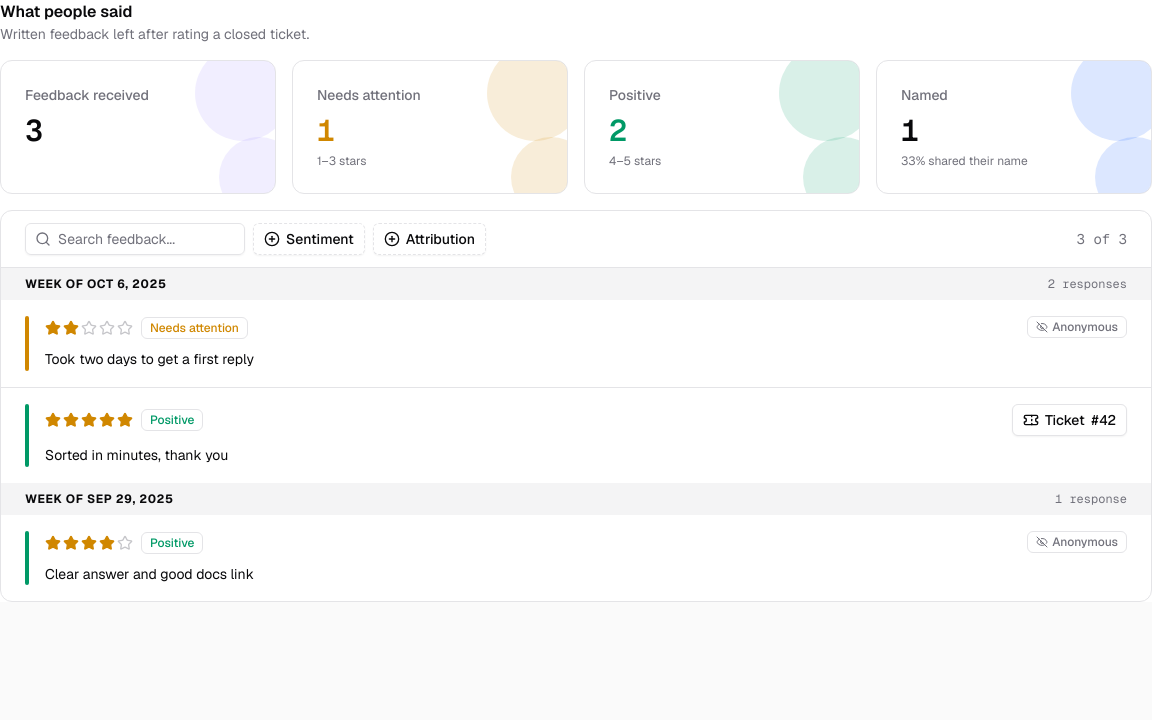
Test: RatingFeedback › filters by attribution
Click the button "Attribution". click: (429,239)
box: 373,223 -> 486,255
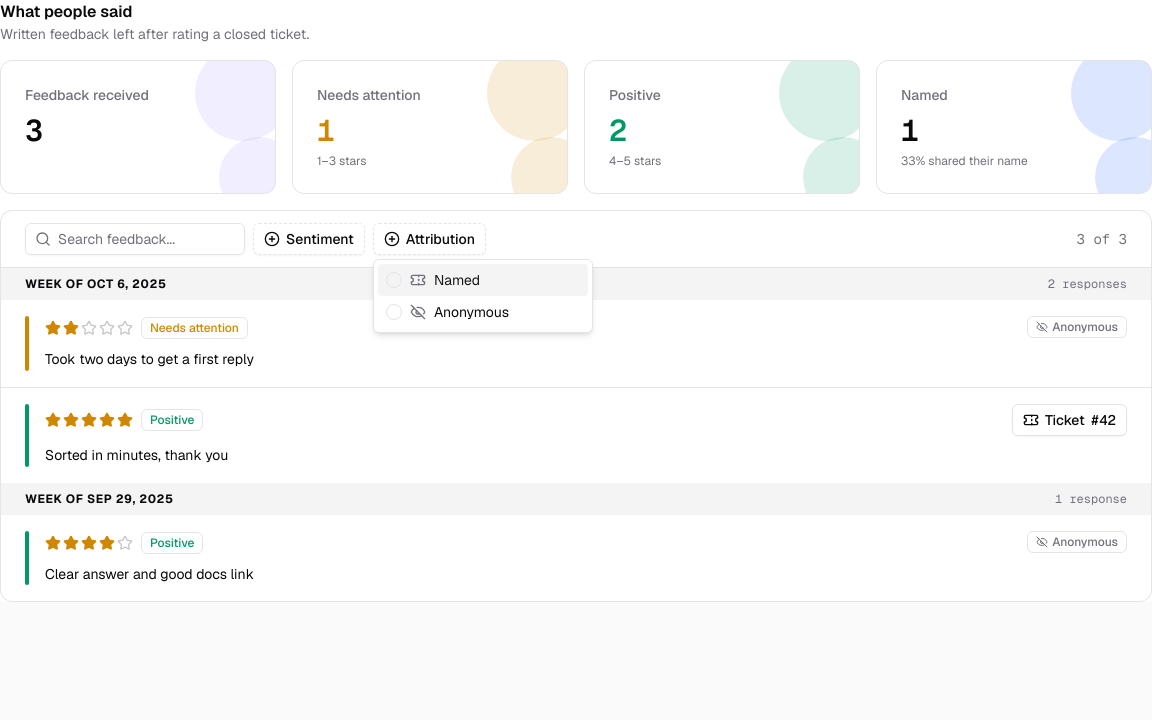
Click the option "Anonymous". click: (448,312)
box: 386,303 -> 509,321
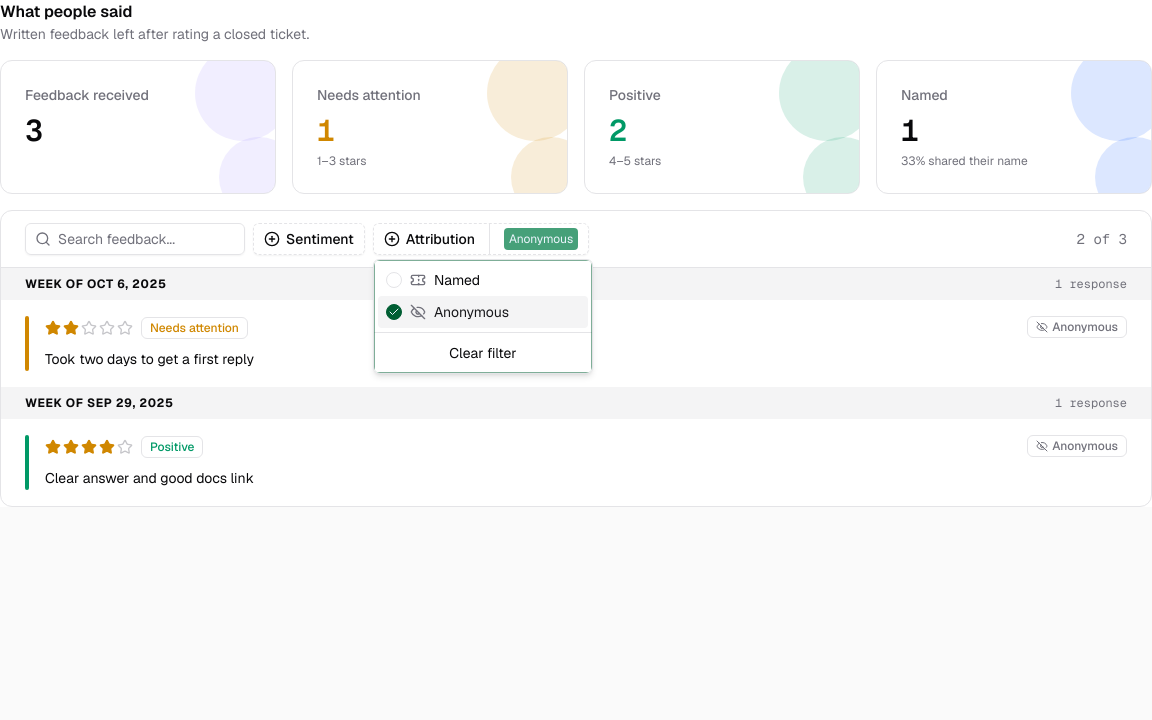
Check: the button "Ticket #" is gone
Check: the text "2 of 3" is shown, box 1077,229 -> 1127,249
